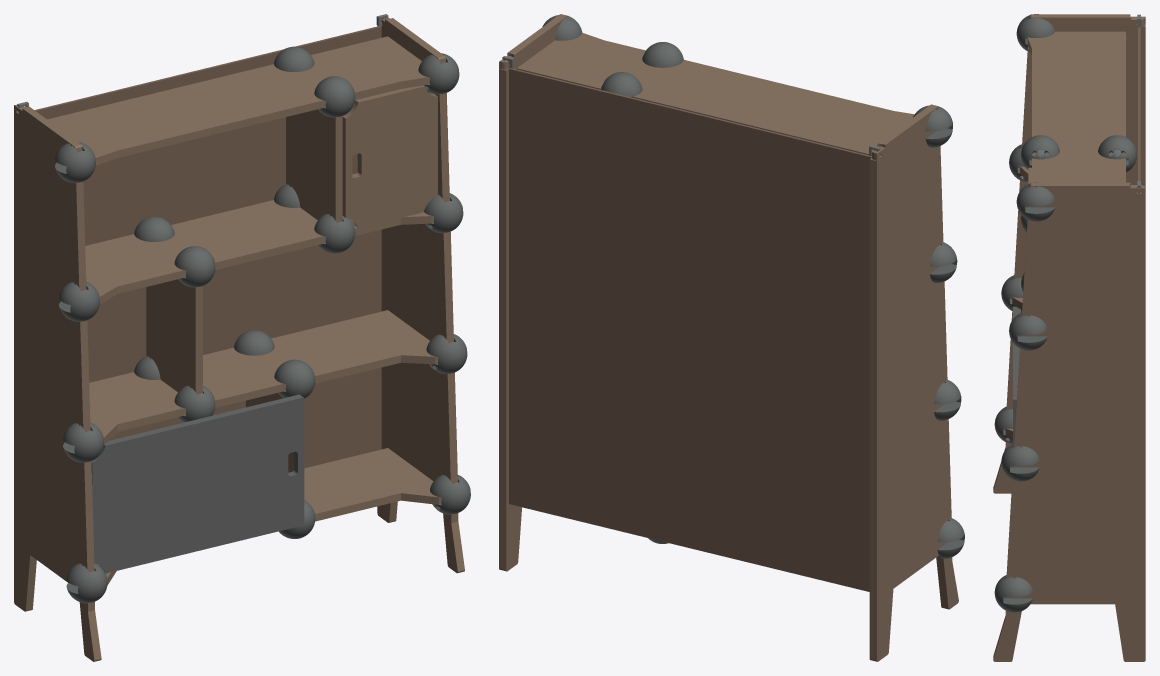
The model's file is assembled.glb.
3 renders of one model, left to right at view 1: azimuth 30°, elevation 25°; view 2: azimuth 150°, elevation 25°; view 3: azimuth 270°, elevation 25°, orthographic. The views are drawn at different scales.
Parts seen in each view (by area): view 1: back-panel, frame-left, door-0, frame-right, shelf-3, shelf-1, shelf-2, door-1, shelf-0, partition-1, partition-2, sphere-side-left-3 (+15 smaller); view 2: back-panel, frame-left, shelf-3, frame-right, sphere-side-left-3, sphere-inner-x700-3-front, sphere-side-left-0, sphere-side-left-1, sphere-side-left-2, sphere-inner-x700-3-rear; view 3: frame-right, shelf-3, frame-left, sphere-side-right-3, sphere-side-right-1, sphere-side-right-2, sphere-side-right-0, sphere-inner-x700-3-rear, sphere-inner-x700-3-front, sphere-side-left-3, door-0, sphere-side-left-1 (+3 smaller).
Part boxes in pixels (box(x1,y1,x2,y2)): back-panel: box(34, 25, 381, 468); frame-left: box(14, 105, 101, 661); door-0: box(91, 394, 304, 573); frame-right: box(377, 17, 464, 573); shelf-3: box(47, 36, 429, 165); shelf-1: box(89, 310, 438, 444); shelf-2: box(85, 200, 434, 303); door-1: box(342, 85, 437, 228); shelf-0: box(96, 448, 441, 585); partition-1: box(146, 279, 202, 394); partition-2: box(286, 109, 342, 222); sphere-side-left-3: box(55, 142, 95, 183); back-panel: box(509, 67, 871, 591); frame-left: box(869, 104, 958, 661); shelf-3: box(516, 32, 914, 155); frame-right: box(499, 14, 568, 571); sphere-side-left-3: box(913, 105, 952, 147); sphere-inner-x700-3-front: box(642, 42, 683, 67); sphere-side-left-0: box(937, 518, 964, 558); sphere-side-left-1: box(934, 380, 961, 420); sphere-side-left-2: box(930, 242, 957, 283); sphere-inner-x700-3-rear: box(601, 72, 642, 96); frame-right: box(993, 182, 1145, 661); shelf-3: box(1027, 31, 1125, 182); frame-left: box(993, 14, 1145, 493); sphere-side-right-3: box(1016, 182, 1054, 221); sphere-side-right-1: box(1001, 443, 1039, 481); sphere-side-right-2: box(1009, 312, 1047, 350); sphere-side-right-0: box(994, 575, 1032, 612); sphere-inner-x700-3-rear: box(1098, 135, 1136, 172); sphere-inner-x700-3-front: box(1021, 135, 1059, 169); sphere-side-left-3: box(1016, 14, 1055, 52); door-0: box(1013, 306, 1020, 443); sphere-side-left-1: box(1001, 275, 1023, 312).
Bounding box in the file's own units: 0.9981 × 1.2 × 0.3485.
